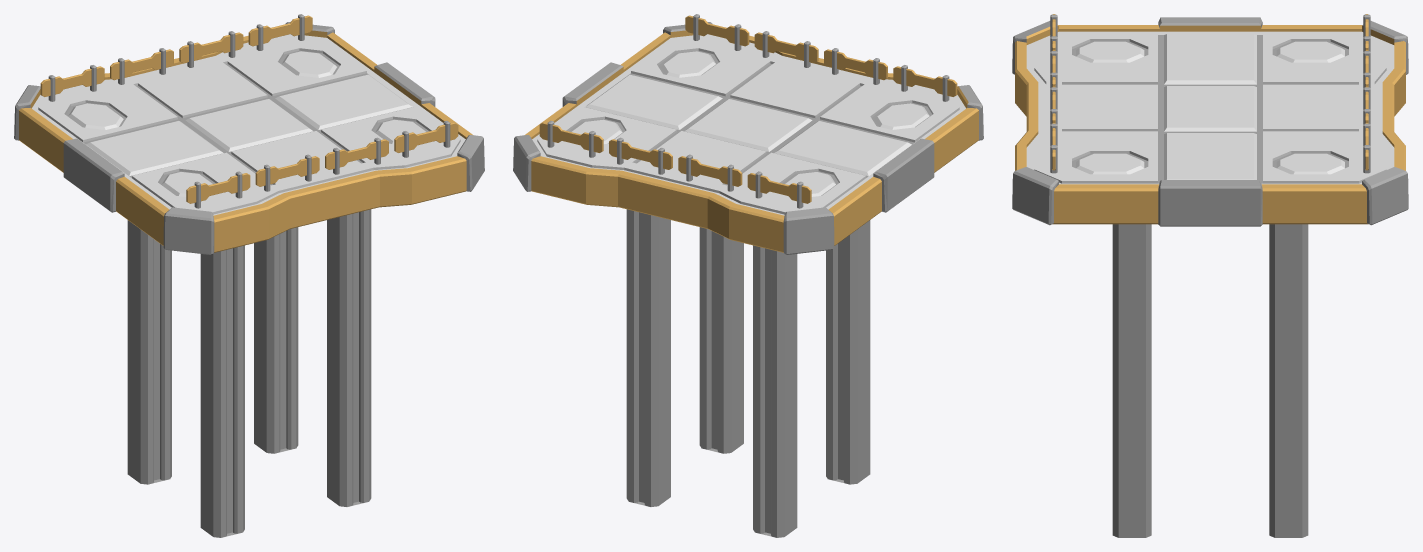
File: SM_PlatformBig.fbx
The picture shows the model from 3 angles, left to right: view 1: azimuth 30°, elevation 25°; view 2: azimuth 150°, elevation 25°; view 3: azimuth 270°, elevation 25°; orthographic projection. The views are drawn at different scales.
Visible parts, largest first — view 1: SM_PlatformBig, SM_PlatformBigLegs; view 2: SM_PlatformBig, SM_PlatformBigLegs; view 3: SM_PlatformBig, SM_PlatformBigLegs.
Part boxes in pixels (x1,y1,x2,y2): SM_PlatformBig: (14,14,484,254); SM_PlatformBigLegs: (127,209,371,537); SM_PlatformBig: (513,14,983,254); SM_PlatformBigLegs: (626,209,870,537); SM_PlatformBig: (1012,14,1408,226); SM_PlatformBigLegs: (1112,224,1308,537).
Size of the model in its own units: 10.3 by 11.74 by 10.14.
